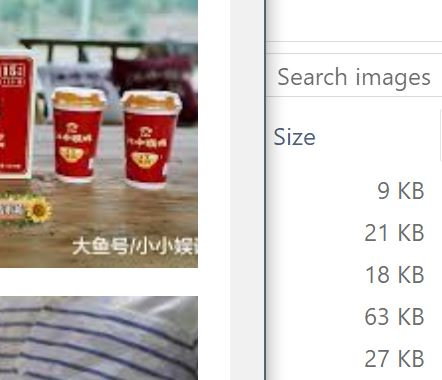box: (1, 48, 36, 177)
cup: (123, 89, 179, 190), (50, 86, 104, 183)
